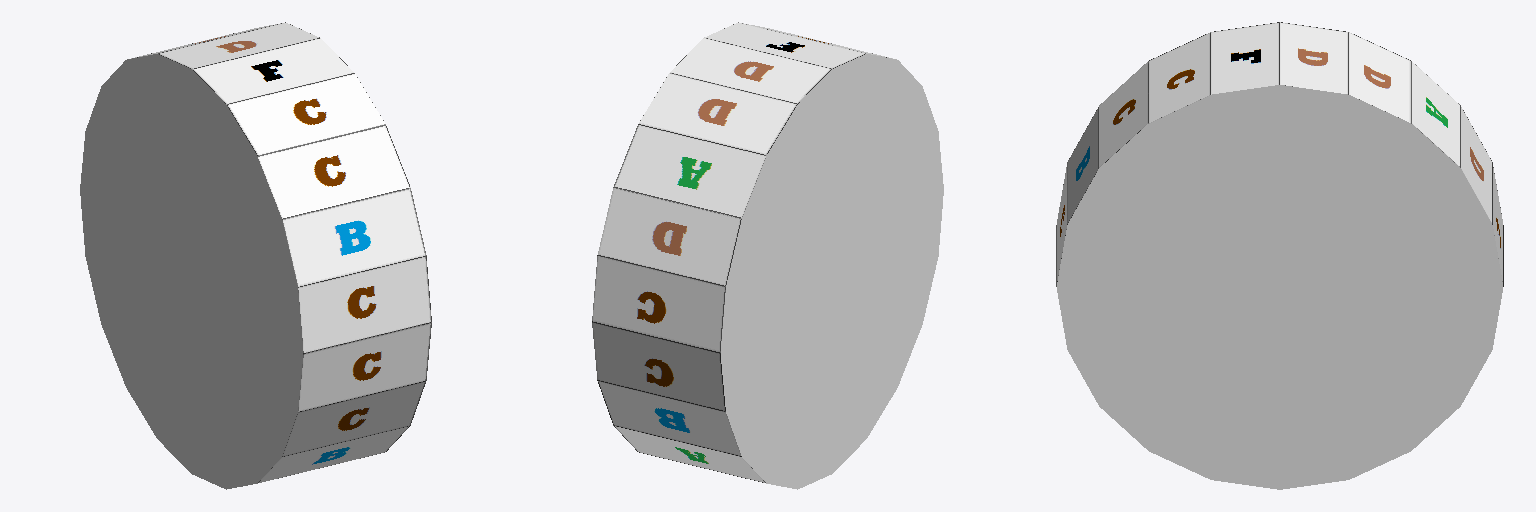
3 views of the same model, side by side, from view 1: azimuth 30°, elevation 25°; view 2: azimuth 150°, elevation 25°; view 3: azimuth 270°, elevation 25° (orthographic).
Visible parts, largest first — view 1: Object__0; view 2: Object__0; view 3: Object__0.
Part boxes in pixels (left/top/right/bottom): Object__0: left=80, top=22, right=431, bottom=489; Object__0: left=592, top=22, right=943, bottom=489; Object__0: left=1056, top=22, right=1503, bottom=489.
Size of the model in its own units: 0.2436 by 0.7336 by 0.7336.
1 materials, 1 textured.